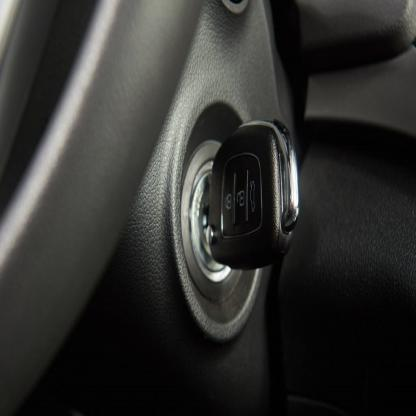keys: (210, 124, 300, 274)
